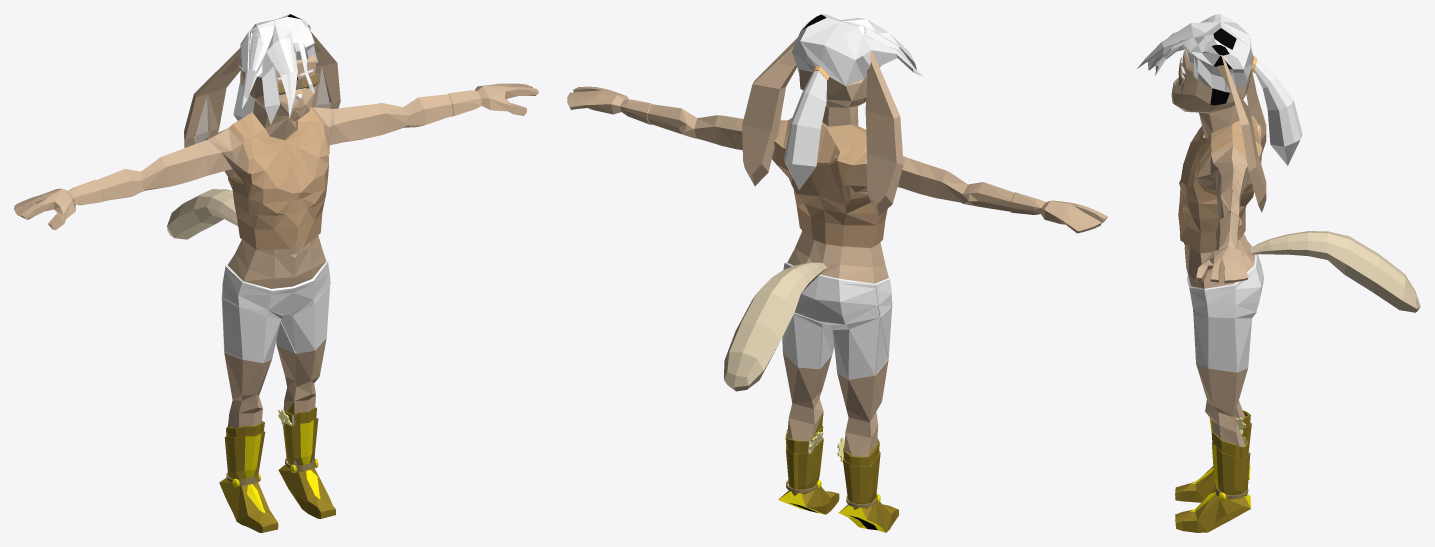
The model's file is Fabien_mesh0_1.fbx.
3 views of the same model, side by side, from view 1: azimuth 30°, elevation 25°; view 2: azimuth 150°, elevation 25°; view 3: azimuth 270°, elevation 25° (orthographic). The views are drawn at different scales.
Visible parts, largest first — view 1: Fabien, Oreille; view 2: Fabien, Oreille; view 3: Fabien, Oreille.
Boxes of the visible parts, x1=… form: Fabien: x1=14, y1=14, x2=538, y2=532; Oreille: x1=184, y1=32, x2=340, y2=179; Fabien: x1=567, y1=14, x2=1107, y2=532; Oreille: x1=742, y1=37, x2=903, y2=216; Fabien: x1=1137, y1=14, x2=1420, y2=532; Oreille: x1=1217, y1=55, x2=1266, y2=212.
Bounding box in the file's own units: 204 × 185 × 97.28.
